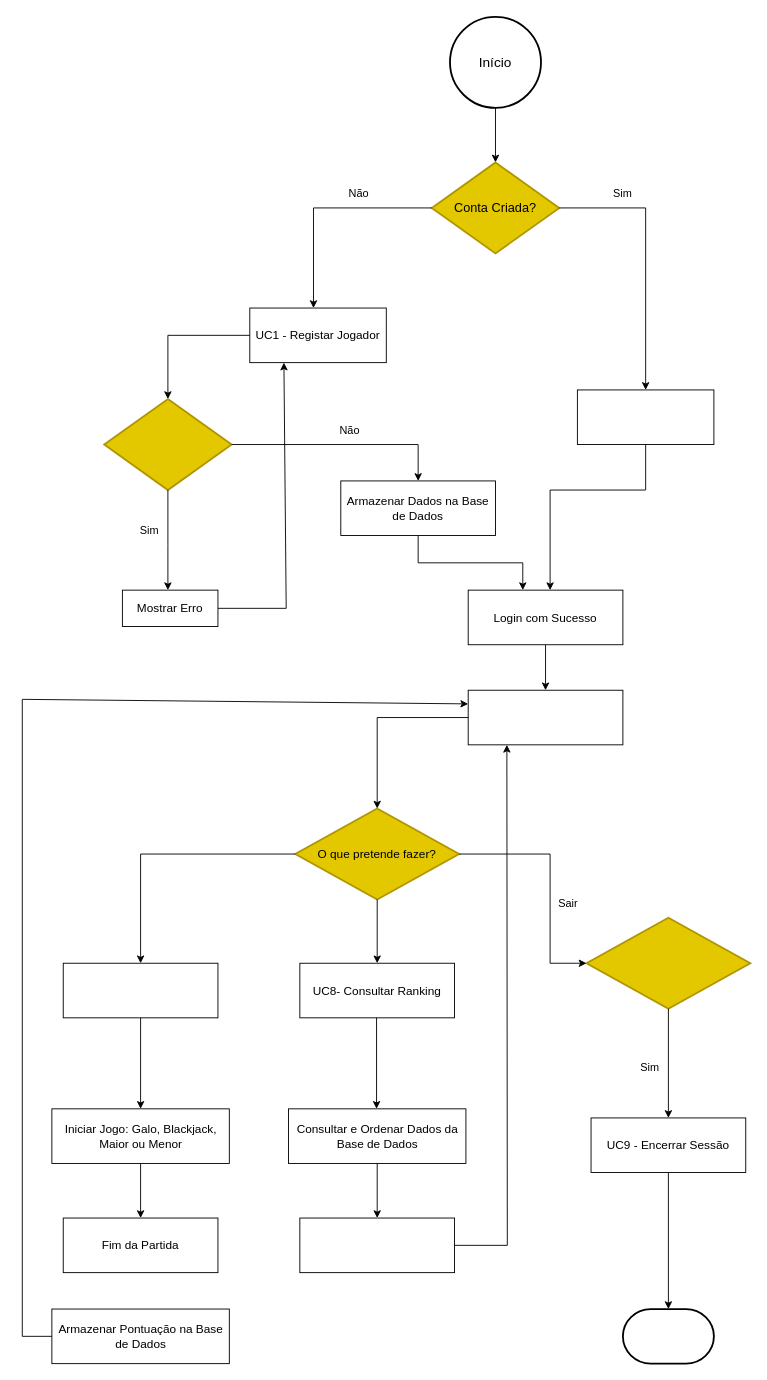
Image size: 767x1380. Some labels were removed from this diagram. Each missing label, with the box of its shape:
Confirmar Saída?: (585, 916, 751, 1009)
Exibir Menu Principal: (467, 689, 623, 745)
Exibir Top 10 Jogadores: (299, 1217, 455, 1273)
Fim: (622, 1308, 714, 1364)
Inserir Username e Password: (576, 389, 714, 445)
UC4 - Selecionar Jogo: (62, 962, 218, 1018)
Username existe?: (103, 398, 232, 490)
